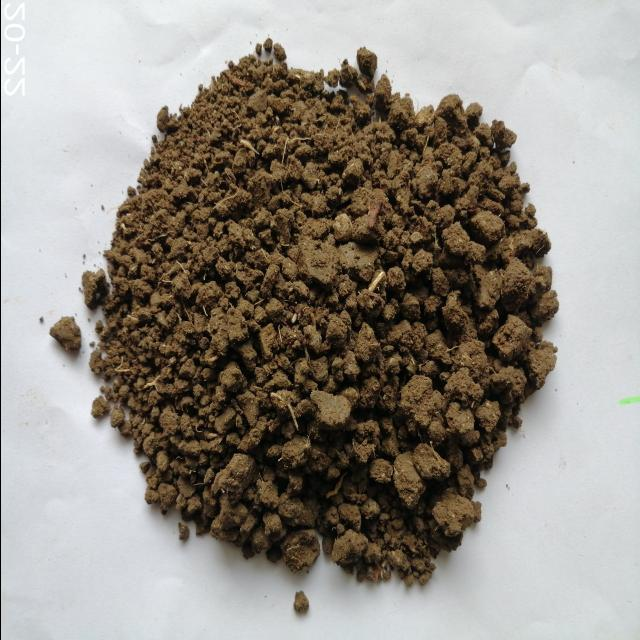soil: (160, 135, 458, 479)
